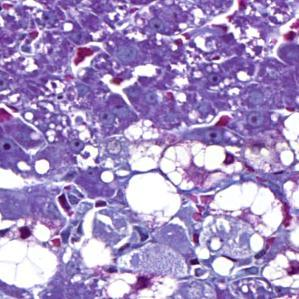ballooning: (157, 137, 247, 199), (205, 180, 286, 240), (5, 214, 61, 292)
